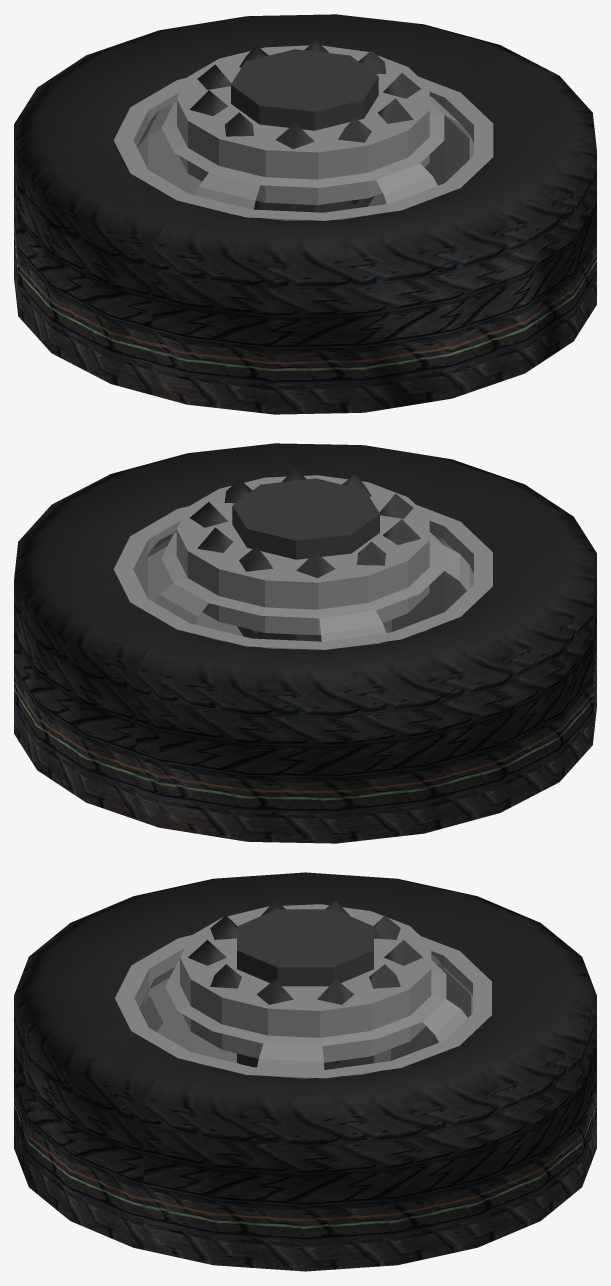
Rendered from tire.obj.
3 renders of one model, top to bottom at view 1: azimuth 30°, elevation 25°; view 2: azimuth 150°, elevation 25°; view 3: azimuth 270°, elevation 25°, orthographic.
Visible parts, largest first — view 1: Object02, Object04, Object05, Object01; view 2: Object02, Object04, Object05, Object01; view 3: Object02, Object04, Object05, Object01.
Boxes of the visible parts, x1,y1,x2,y2 form: Object02: [14, 14, 596, 414]; Object04: [113, 45, 493, 220]; Object05: [231, 49, 378, 212]; Object01: [189, 40, 420, 210]; Object02: [14, 443, 596, 843]; Object04: [113, 475, 492, 649]; Object05: [232, 478, 379, 641]; Object01: [190, 469, 420, 639]; Object02: [14, 872, 596, 1271]; Object04: [115, 904, 491, 1078]; Object05: [237, 909, 373, 1069]; Object01: [188, 900, 422, 1065].
Bounding box in the file's own units: 0.84 × 0.3534 × 0.84.
Materials: 5 (3 with a texture image).
